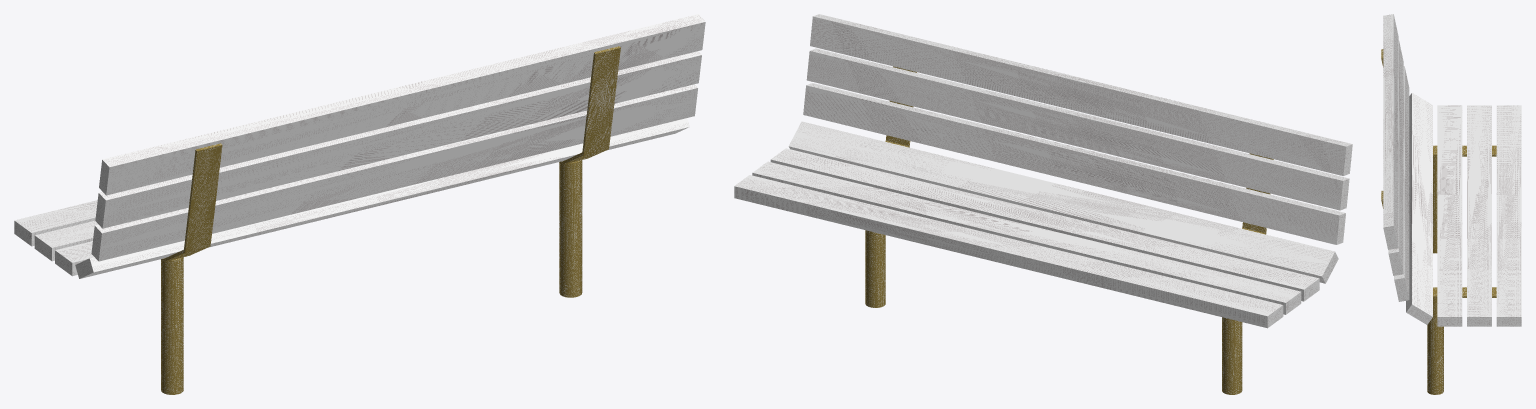
The picture shows the model from 3 angles, left to right: view 1: azimuth 30°, elevation 25°; view 2: azimuth 150°, elevation 25°; view 3: azimuth 270°, elevation 25°; orthographic projection. The views are drawn at different scales.
Visible parts, largest first — view 1: mesh12_mesh12-geometry, mesh6_mesh6-geometry, mesh7_mesh7-geometry, mesh8_mesh8-geometry, mesh4_mesh4-geometry, mesh2_mesh2-geometry, mesh3_mesh3-geometry, mesh1_mesh1-geometry, mesh9_mesh9-geometry, mesh11_mesh11-geometry, mesh10_mesh10-geometry; view 2: mesh7_mesh7-geometry, mesh12_mesh12-geometry, mesh6_mesh6-geometry, mesh8_mesh8-geometry, mesh9_mesh9-geometry, mesh11_mesh11-geometry, mesh10_mesh10-geometry, mesh4_mesh4-geometry, mesh2_mesh2-geometry; view 3: mesh9_mesh9-geometry, mesh10_mesh10-geometry, mesh11_mesh11-geometry, mesh8_mesh8-geometry, mesh12_mesh12-geometry, mesh7_mesh7-geometry, mesh6_mesh6-geometry, mesh4_mesh4-geometry, mesh2_mesh2-geometry, mesh1_mesh1-geometry, mesh3_mesh3-geometry.
Part boxes in pixels (bbox=[...]): mesh12_mesh12-geometry: bbox=[99, 14, 705, 195]; mesh6_mesh6-geometry: bbox=[95, 51, 701, 228]; mesh7_mesh7-geometry: bbox=[91, 84, 697, 261]; mesh8_mesh8-geometry: bbox=[75, 118, 689, 278]; mesh4_mesh4-geometry: bbox=[559, 160, 582, 297]; mesh2_mesh2-geometry: bbox=[161, 257, 183, 394]; mesh3_mesh3-geometry: bbox=[559, 46, 620, 164]; mesh1_mesh1-geometry: bbox=[161, 143, 222, 261]; mesh9_mesh9-geometry: bbox=[14, 200, 97, 246]; mesh11_mesh11-geometry: bbox=[34, 220, 98, 261]; mesh10_mesh10-geometry: bbox=[55, 241, 93, 276]; mesh7_mesh7-geometry: bbox=[803, 83, 1345, 244]; mesh12_mesh12-geometry: bbox=[810, 14, 1352, 175]; mesh6_mesh6-geometry: bbox=[806, 48, 1349, 210]; mesh8_mesh8-geometry: bbox=[788, 121, 1338, 283]; mesh9_mesh9-geometry: bbox=[734, 175, 1283, 328]; mesh11_mesh11-geometry: bbox=[752, 161, 1301, 314]; mesh10_mesh10-geometry: bbox=[770, 148, 1319, 301]; mesh4_mesh4-geometry: bbox=[865, 230, 885, 307]; mesh2_mesh2-geometry: bbox=[1222, 317, 1242, 394]; mesh9_mesh9-geometry: bbox=[1496, 105, 1521, 326]; mesh10_mesh10-geometry: bbox=[1437, 105, 1462, 326]; mesh11_mesh11-geometry: bbox=[1467, 105, 1491, 326]; mesh8_mesh8-geometry: bbox=[1406, 93, 1432, 324]; mesh12_mesh12-geometry: bbox=[1383, 14, 1398, 249]; mesh7_mesh7-geometry: bbox=[1394, 66, 1409, 301]; mesh6_mesh6-geometry: bbox=[1388, 40, 1403, 275]; mesh4_mesh4-geometry: bbox=[1427, 298, 1443, 394]; mesh2_mesh2-geometry: bbox=[1433, 156, 1437, 253]; mesh1_mesh1-geometry: bbox=[1381, 49, 1496, 156]; mesh3_mesh3-geometry: bbox=[1381, 190, 1496, 297].
Bounding box in the file's own units: 0.8712 × 0.3852 × 0.2443.
